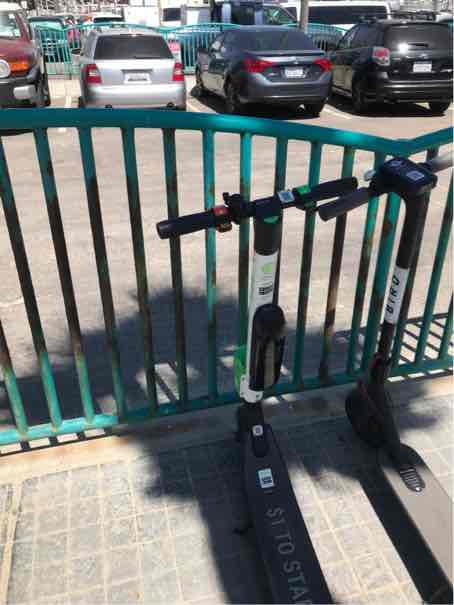scooter: (144, 164, 366, 605)
